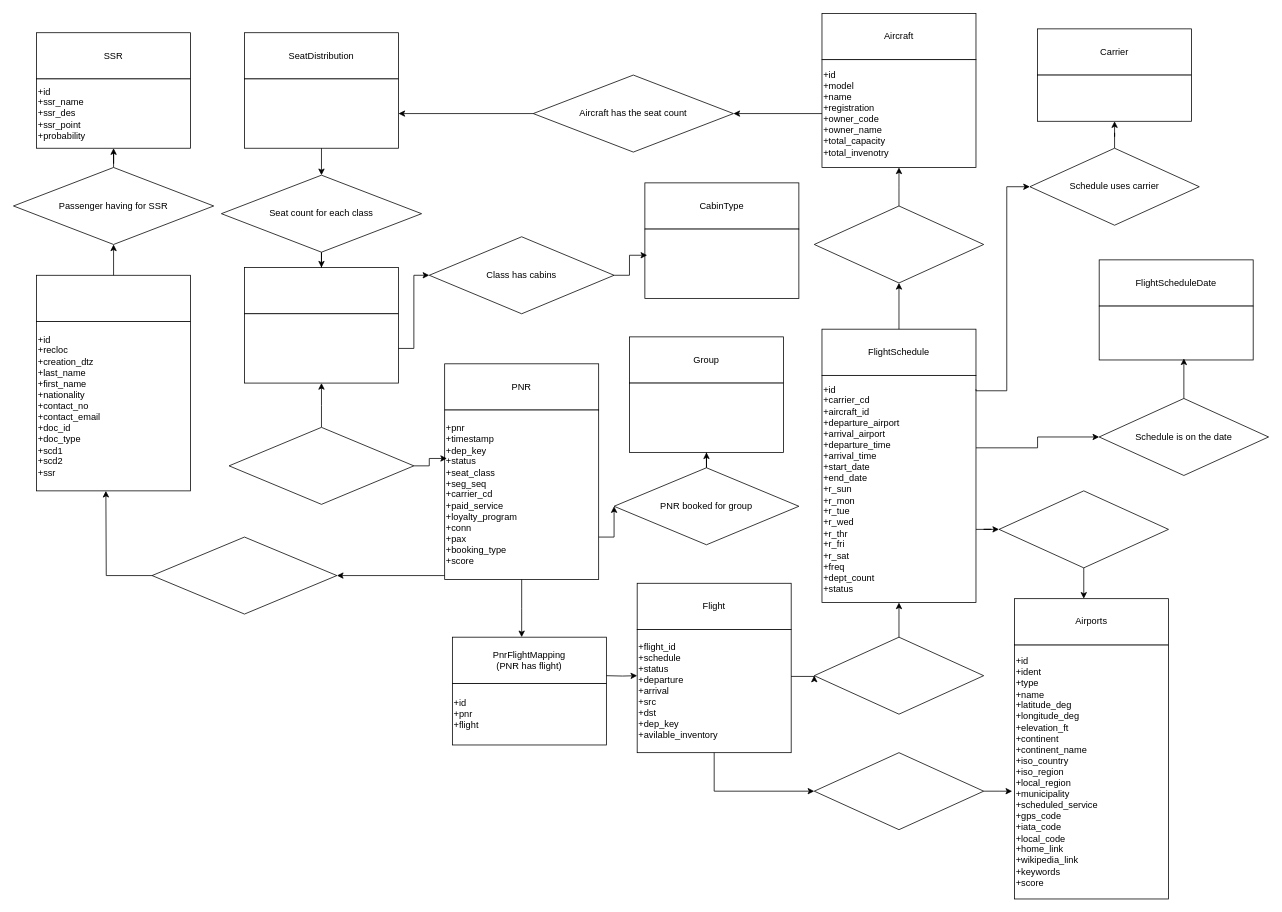
Image size: 1282x912. Some labels were removed from this diagram. Each missing label, with the centre of its shape:
"+code +desc" goes at [1114,97].
"+id +aircraft_id +class_type +seat_count" goes at [321,113].
"+id +group_name +group_des +group_point +probability" goes at [706,417].
"+id +schedule +date" goes at [1175,332].
"+id +type_name +des +score" goes at [721,263].
"+id +type_name +des +score +cabin" goes at [321,348].
"Aircraft fleet for the schedule" goes at [899,244].
"ClassType" goes at [321,290].
"Flight has source and destination airports" goes at [899,791].
"Flight with schedule" goes at [899,675].
"PNR booked for class" goes at [321,465].
"PNR has passengers" goes at [244,575].
"PnrPassenger" goes at [113,298].
"Schedule has source and destination airports" goes at [1083,529].
